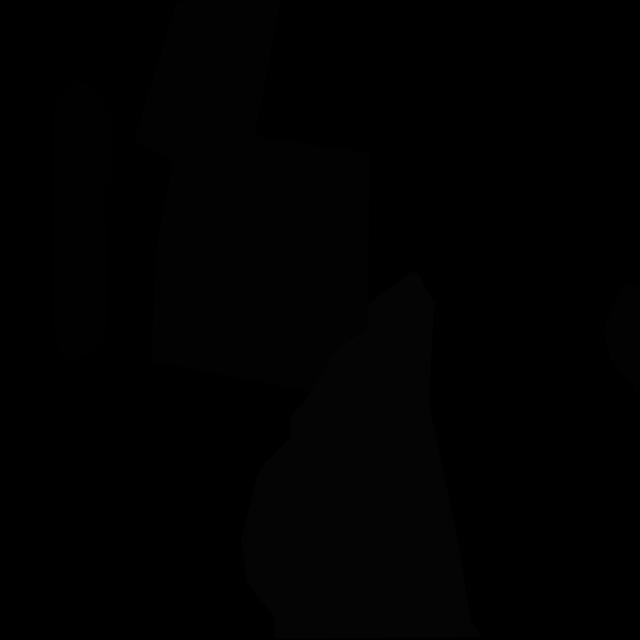cardboard: (151, 125, 370, 392), (134, 0, 281, 161), (602, 282, 640, 397)
rigid_plastic: (52, 77, 112, 364)
soft_plastic: (241, 272, 482, 639)
